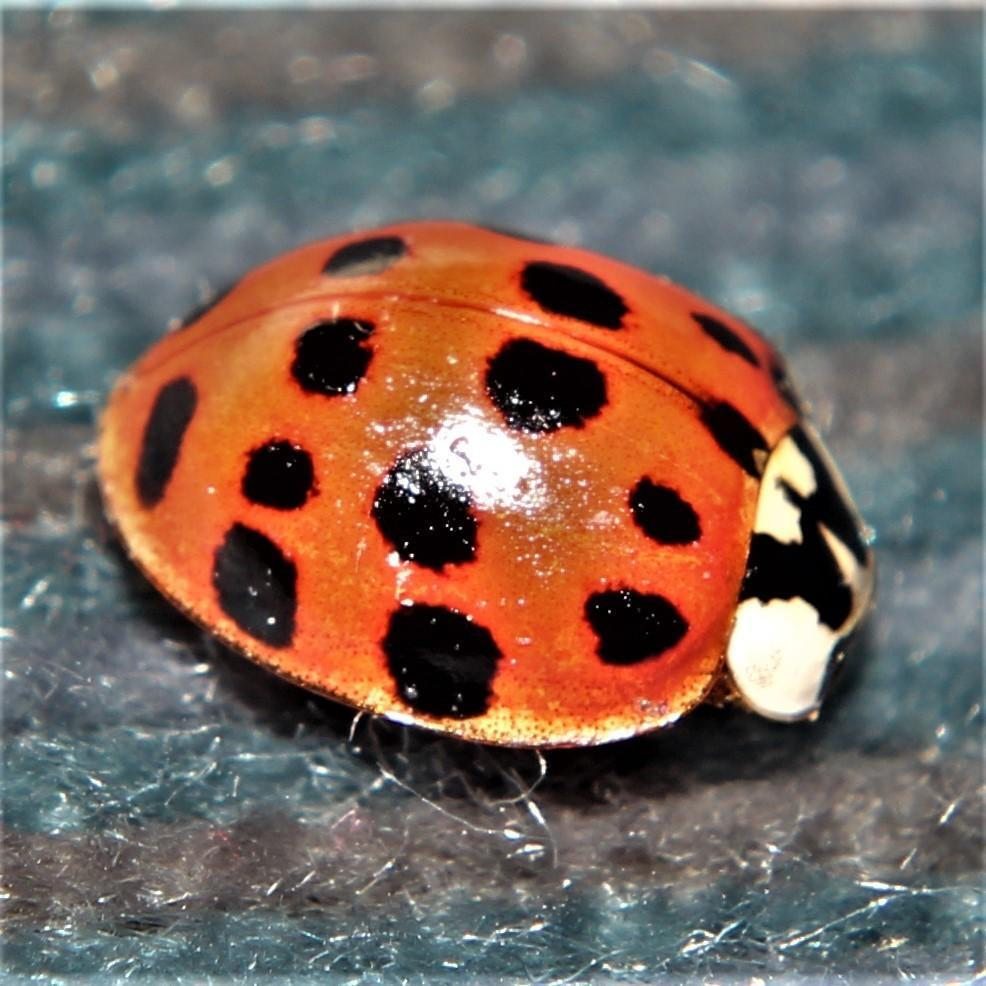ladybug: (91, 216, 886, 754)
